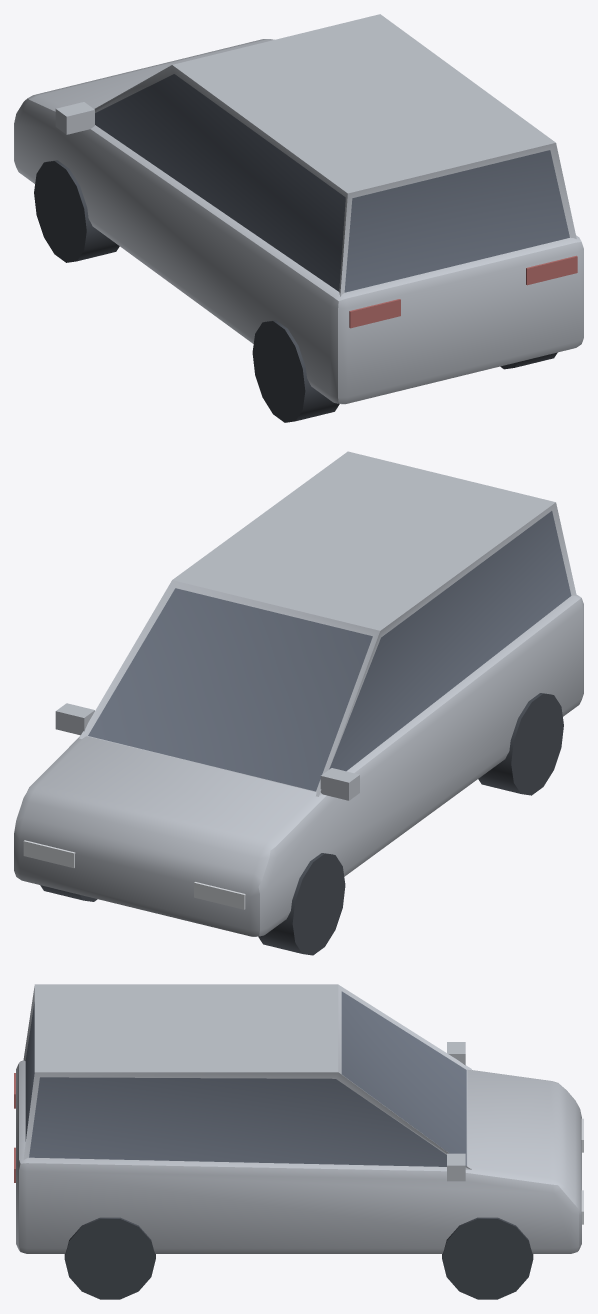
Rendered from compact.glb.
3 views of the same model, one above another, from view 1: azimuth 30°, elevation 25°; view 2: azimuth 150°, elevation 25°; view 3: azimuth 270°, elevation 25° (orthographic). The views are drawn at different scales.
Visible parts, largest first — view 1: Body; view 2: Body; view 3: Body.
Part boxes in pixels (x1=…): Body: x1=14, y1=14, x2=583, y2=422; Body: x1=14, y1=451, x2=583, y2=955; Body: x1=14, y1=984, x2=583, y2=1299.
Bounding box in the file's own units: 1.86 × 1.52 × 3.62.
